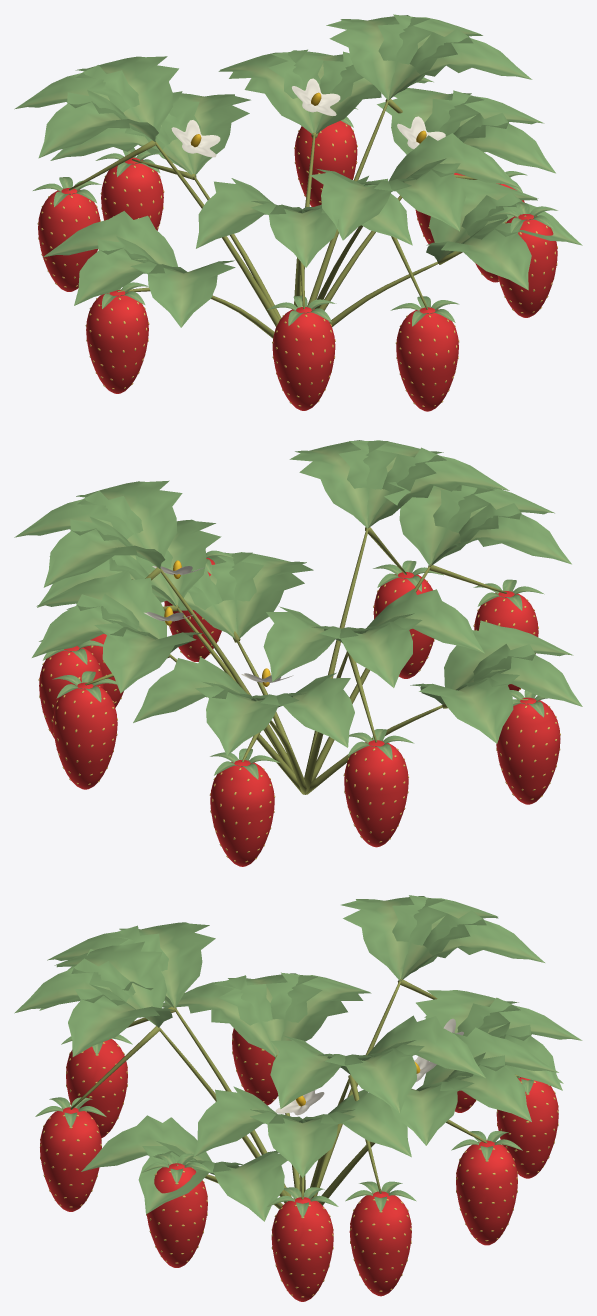
File: strawberry_mature.glb
3 views of the same model, one above another, from view 1: azimuth 30°, elevation 25°; view 2: azimuth 150°, elevation 25°; view 3: azimuth 270°, elevation 25° (orthographic). The views are drawn at different scales.
Parts seen in each view (by area): view 1: leaves, fruit, stems, flowers; view 2: leaves, fruit, stems, flowers; view 3: leaves, fruit, stems, flowers.
Boxes of the visible parts, bbox=[...] form: leaves: bbox=[14, 14, 582, 327]; fruit: bbox=[37, 120, 557, 411]; stems: bbox=[69, 99, 526, 338]; flowers: bbox=[171, 78, 445, 157]; leaves: bbox=[14, 440, 582, 779]; fruit: bbox=[38, 558, 560, 866]; stems: bbox=[85, 527, 528, 794]; flowers: bbox=[144, 560, 293, 686]; leaves: bbox=[14, 895, 582, 1221]; fruit: bbox=[40, 1028, 558, 1301]; stems: bbox=[70, 978, 520, 1208]; flowers: bbox=[275, 1018, 463, 1115].
Bounding box in the file's own units: 0.7171 × 0.3561 × 0.7092.
